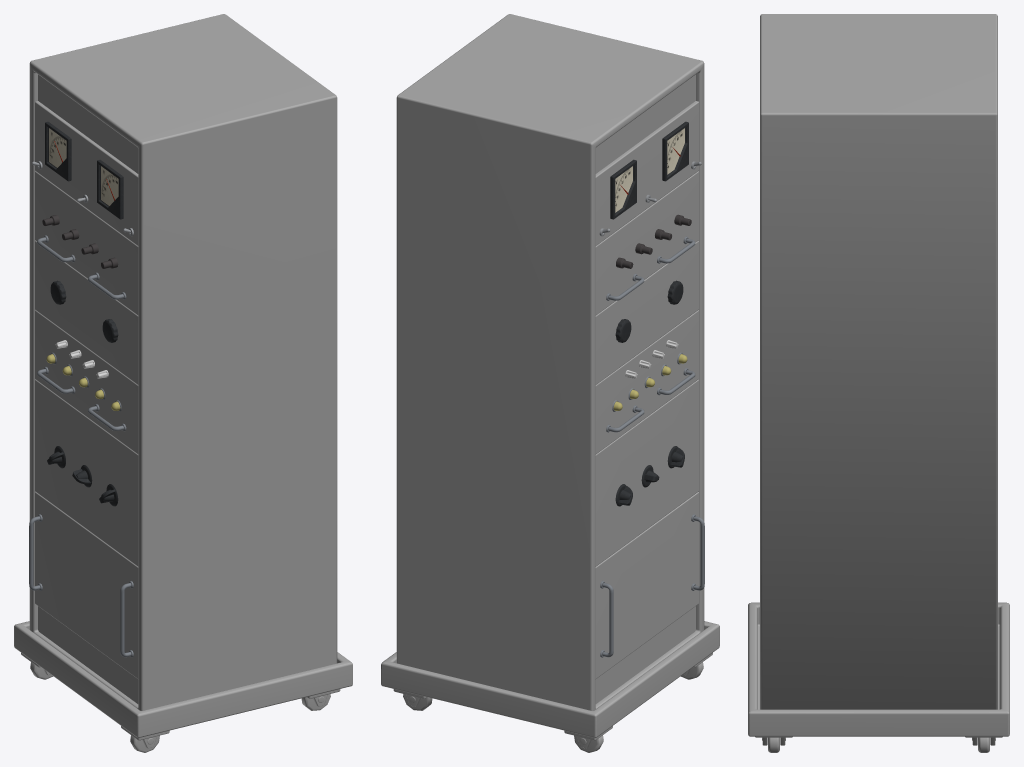
Rendered from SuperComp.fbx.
3 views of the same model, side by side, from view 1: azimuth 30°, elevation 25°; view 2: azimuth 150°, elevation 25°; view 3: azimuth 270°, elevation 25° (orthographic). The views are drawn at different scales.
Visible parts, largest first — view 1: Body, KnobsPack; view 2: Body, KnobsPack; view 3: Body.
Part boxes in pixels (x1,y1,x2,y2): Body: [14, 14, 352, 752]; KnobsPack: [32, 121, 133, 506]; Body: [381, 14, 719, 752]; KnobsPack: [599, 121, 701, 506]; Body: [748, 14, 1009, 752].
Bounding box in the file's own units: 111 × 300 × 110.
